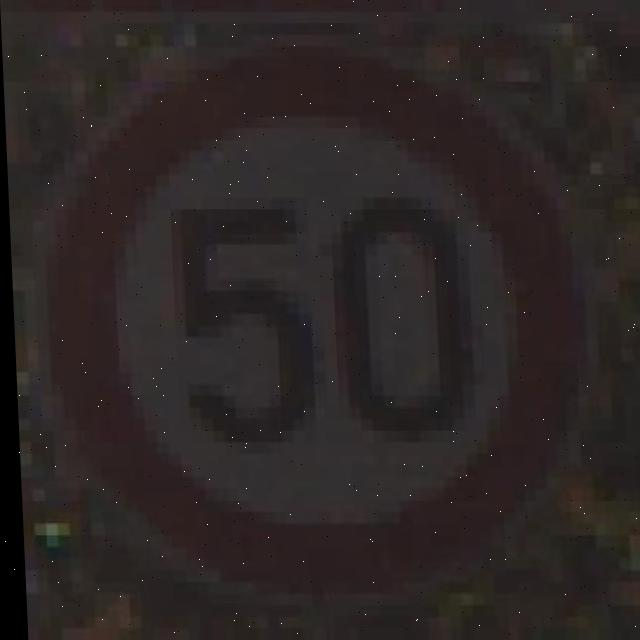Speed limit 50: (30, 41, 598, 583)
